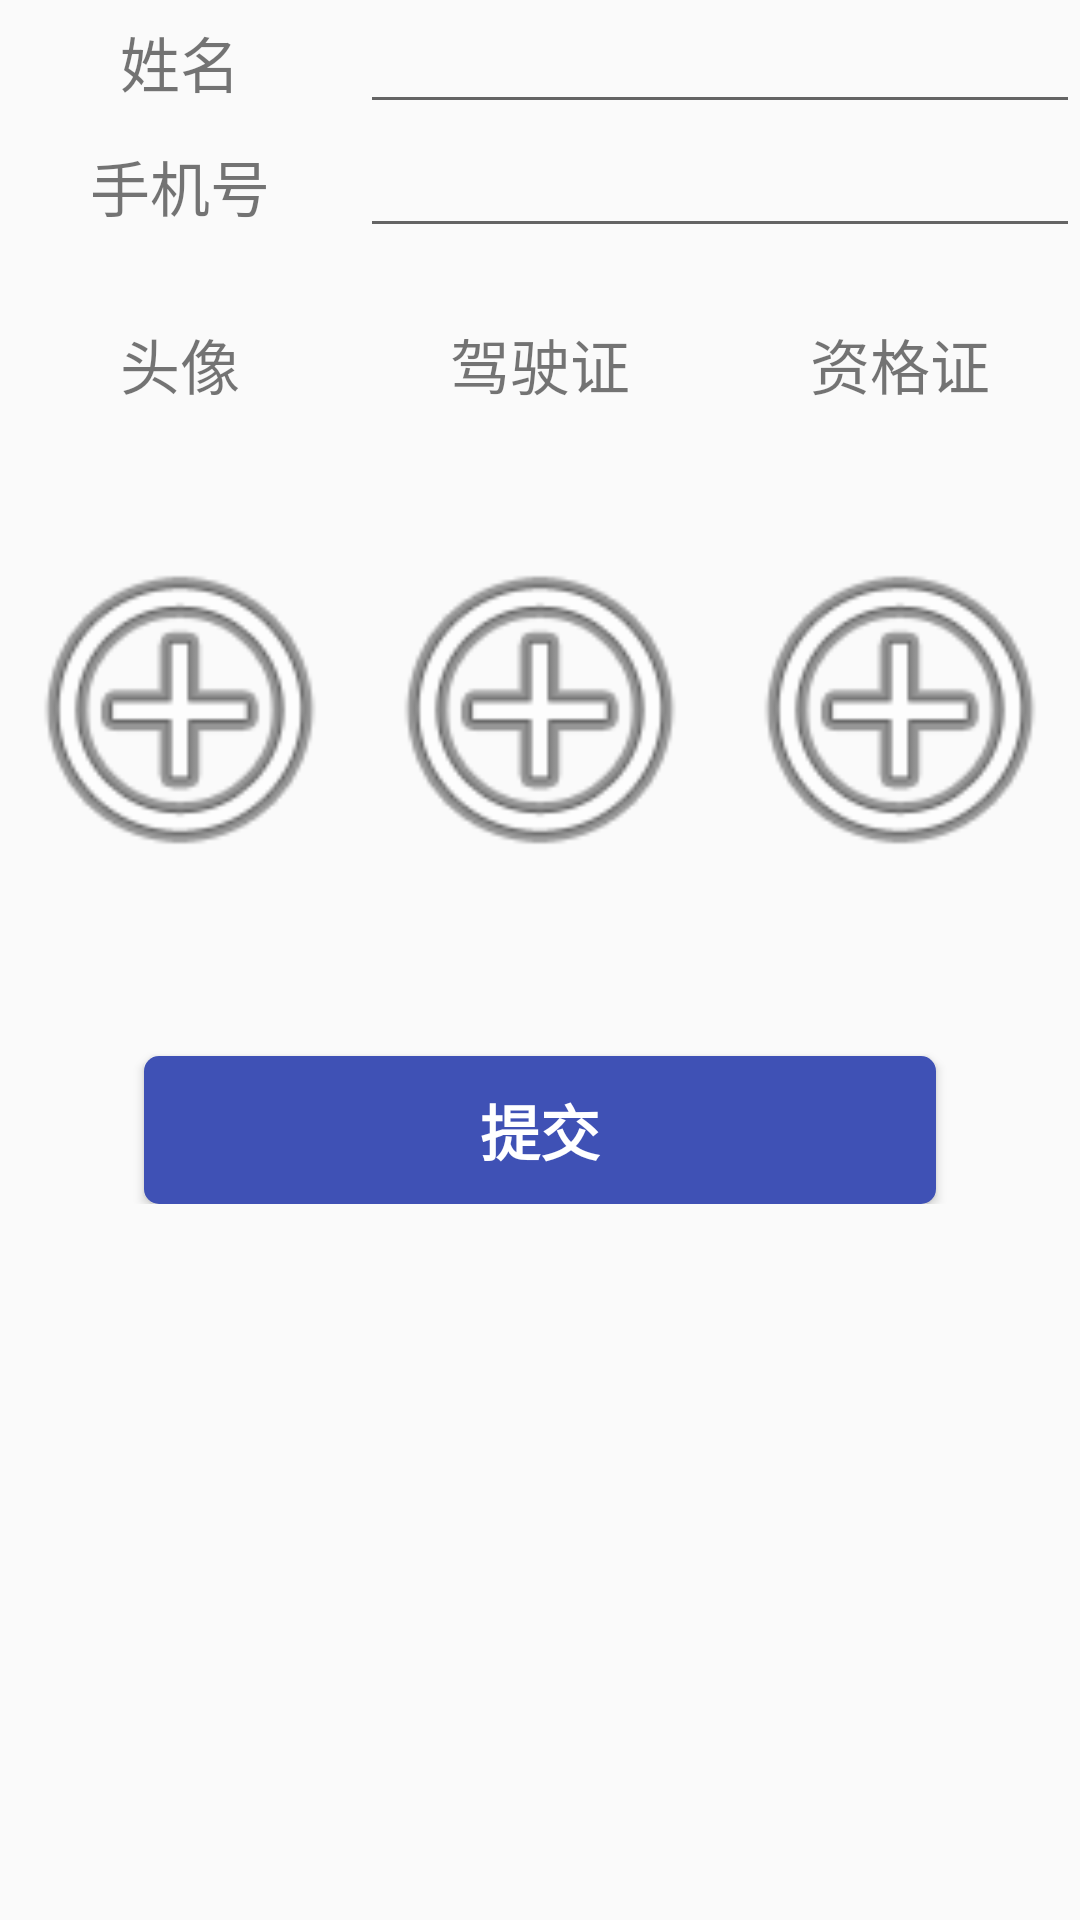

Screen size 1080×1920. Icon name, then its box in pixels as [left=x1, top=y1, right=x2, bottom=y2]:
add: [left=46, top=576, right=314, bottom=844], [left=406, top=576, right=674, bottom=844], [left=766, top=576, right=1034, bottom=844]
